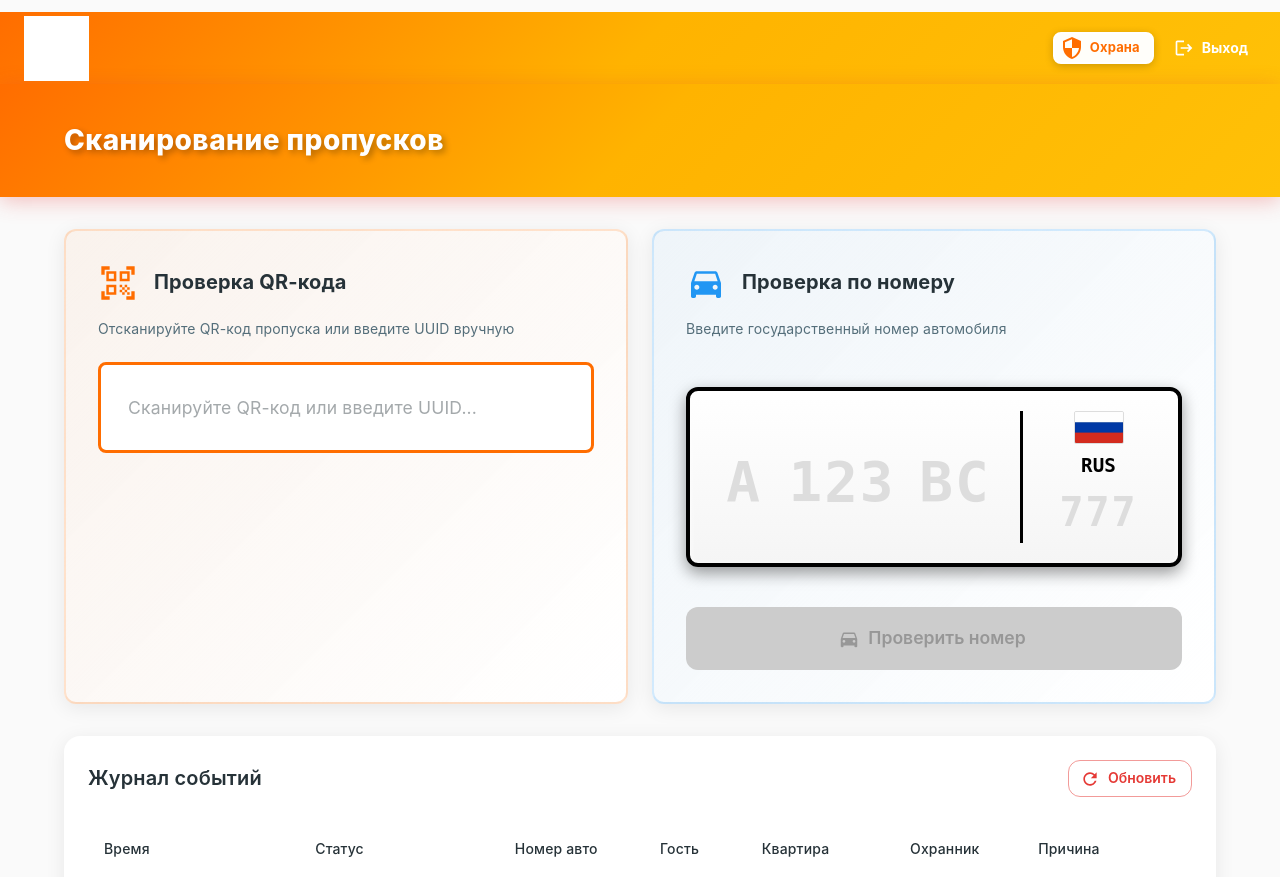
Test: SecurityPage › clears validation result when user starts typing again
Step 1. Type "valid-uuid" into the field with placeholder "Сканируйте QR-код или введите UUID..." → (346, 408), box [114,379,578,437]
Then press Enter
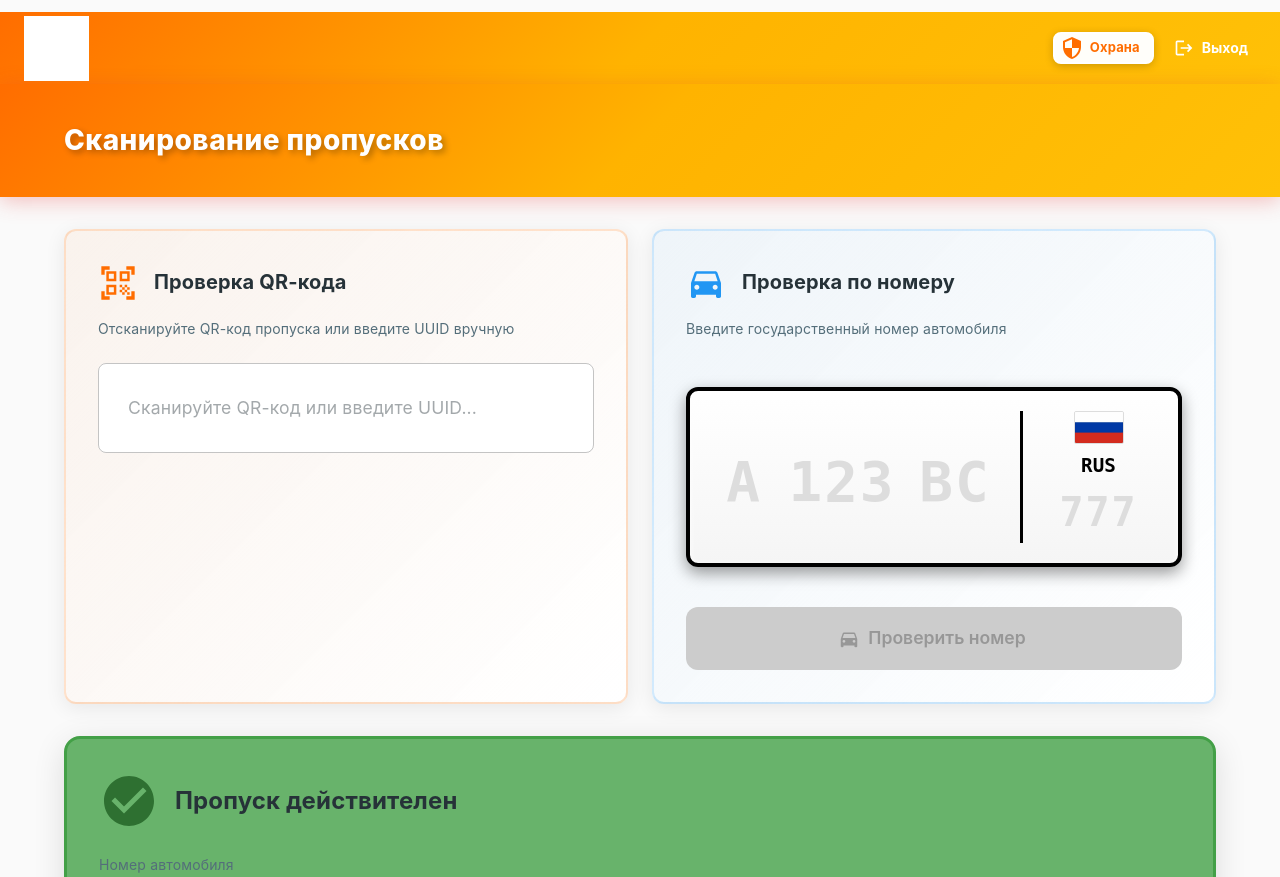
Check: the heading "Пропуск действителен" is shown, box [175,786,458,816]
Step 2. Type "a" into the field with placeholder "Сканируйте QR-код или введите UUID..." → (346, 408), box [114,379,578,437]
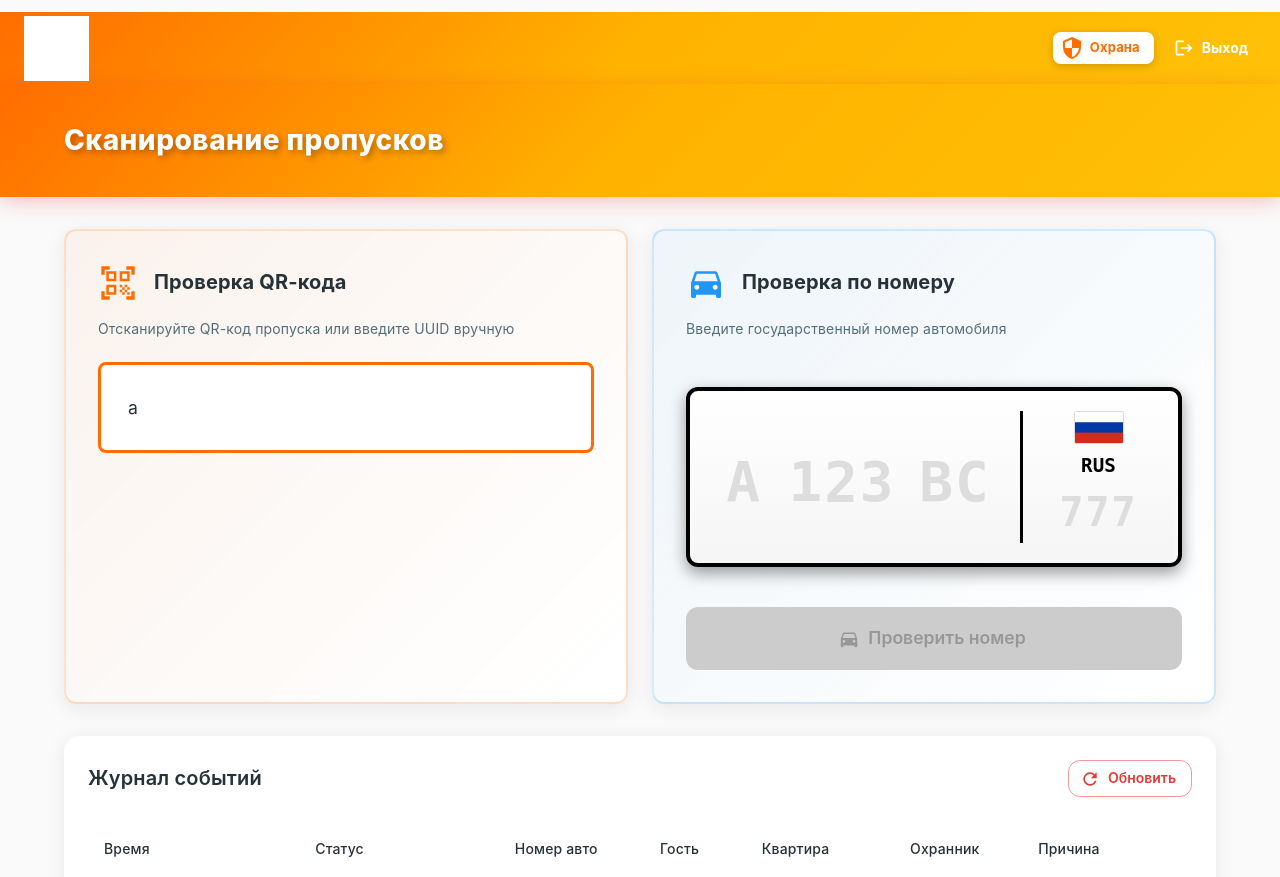
Check: the heading "Пропуск действителен" is gone
